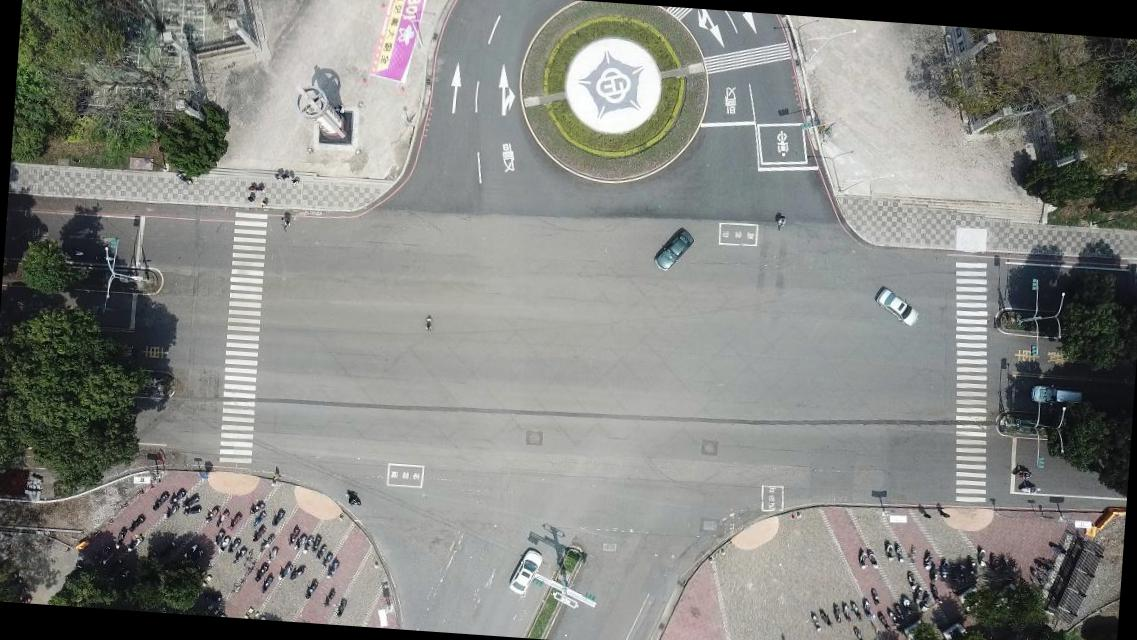vehicle: (650, 224, 694, 274), (874, 286, 921, 326), (507, 546, 543, 596), (1030, 383, 1082, 409)
